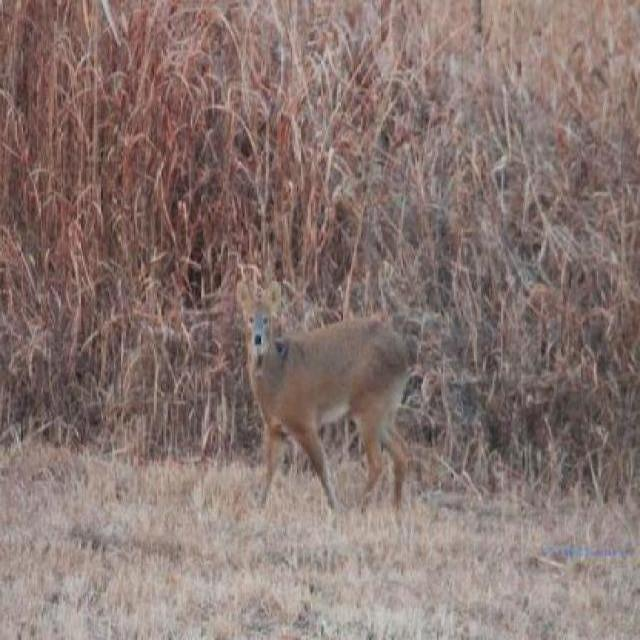deer: (226, 260, 420, 525)
